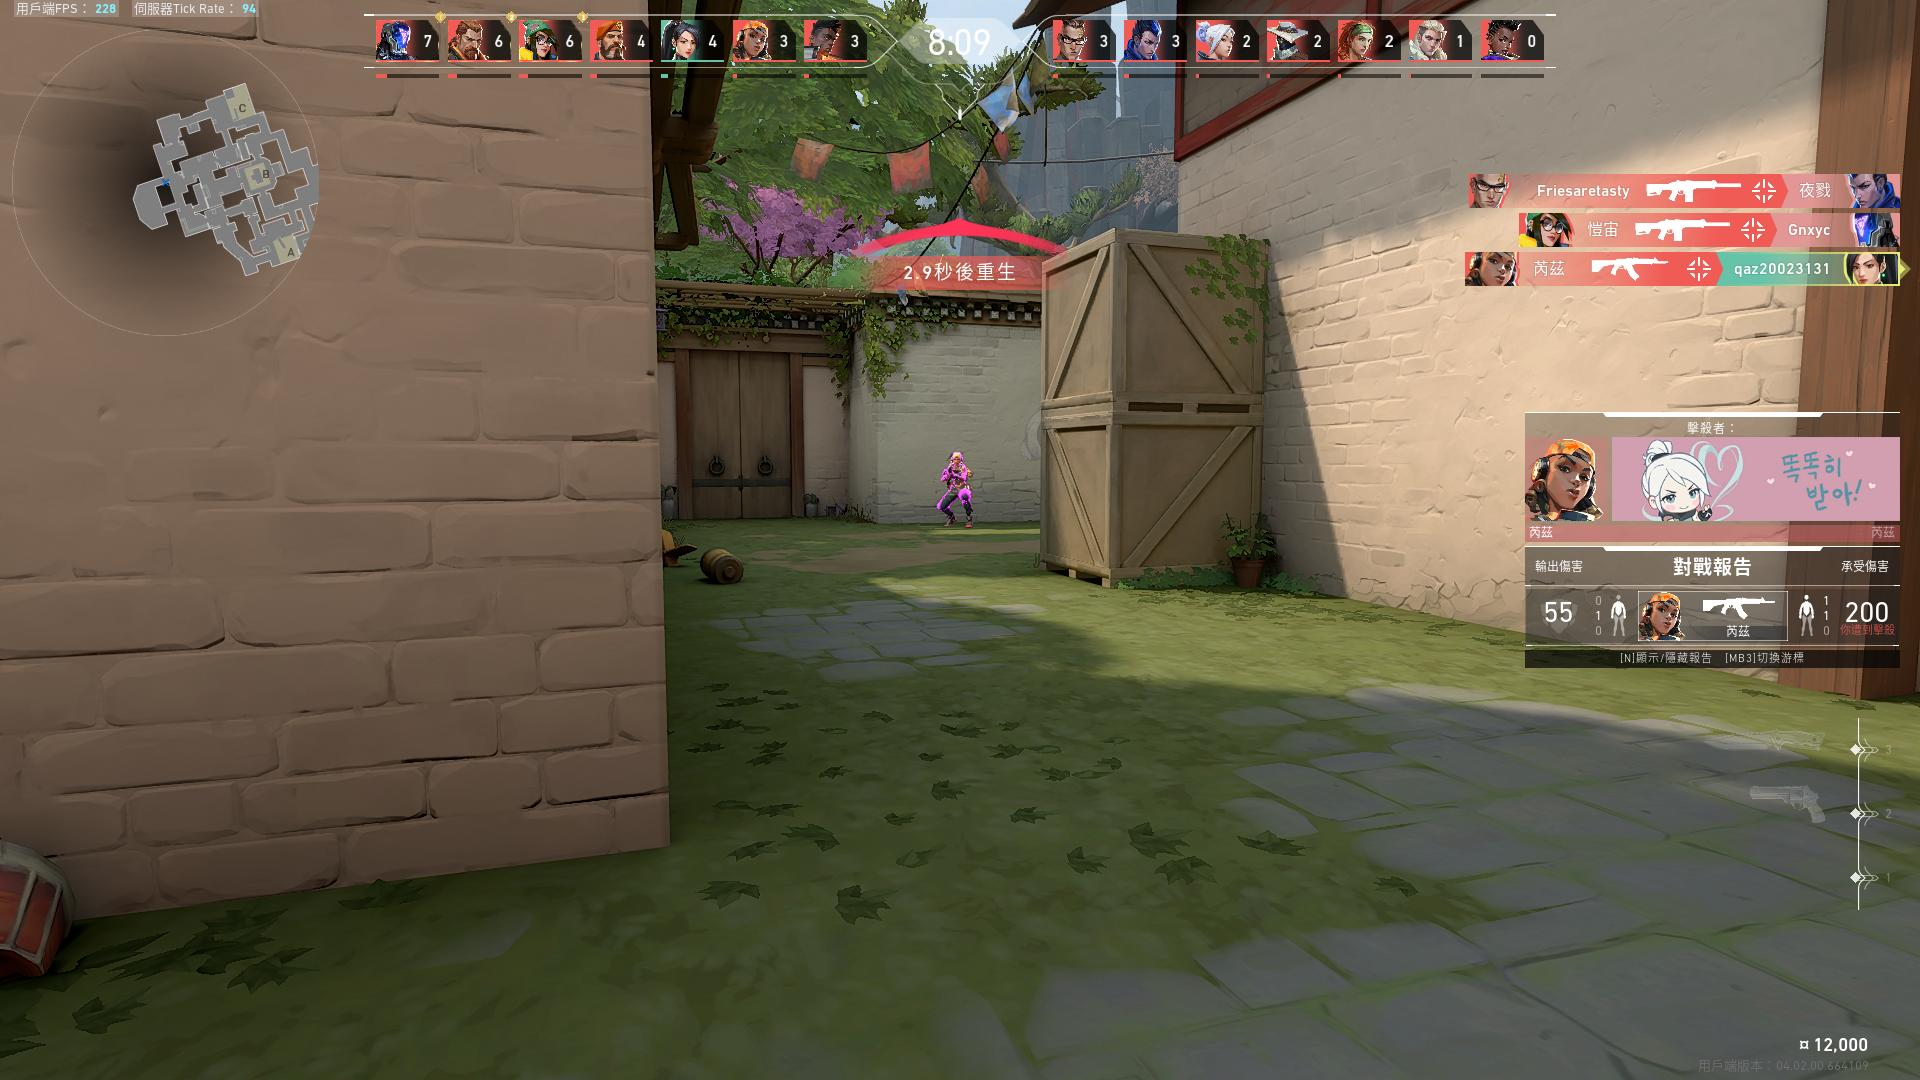enemyBody: (951, 465, 963, 485)
enemyHead: (953, 456, 960, 464)
